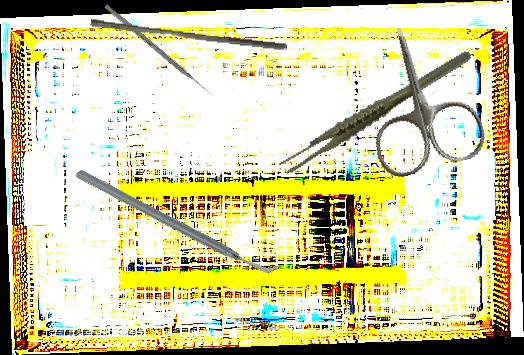Chopper: (74, 109, 284, 334)
Iris Scissors: (347, 13, 490, 182)
Pusher: (104, 3, 216, 100), (89, 18, 289, 51)
Tissue Forceps: (264, 48, 488, 177)
